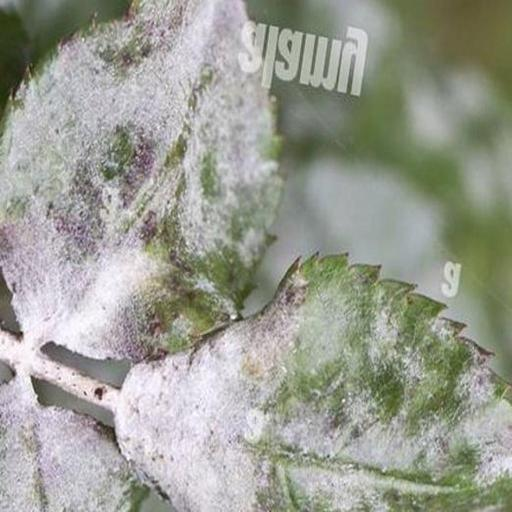powdery_mildew: (110, 255, 512, 512), (0, 0, 282, 360)
